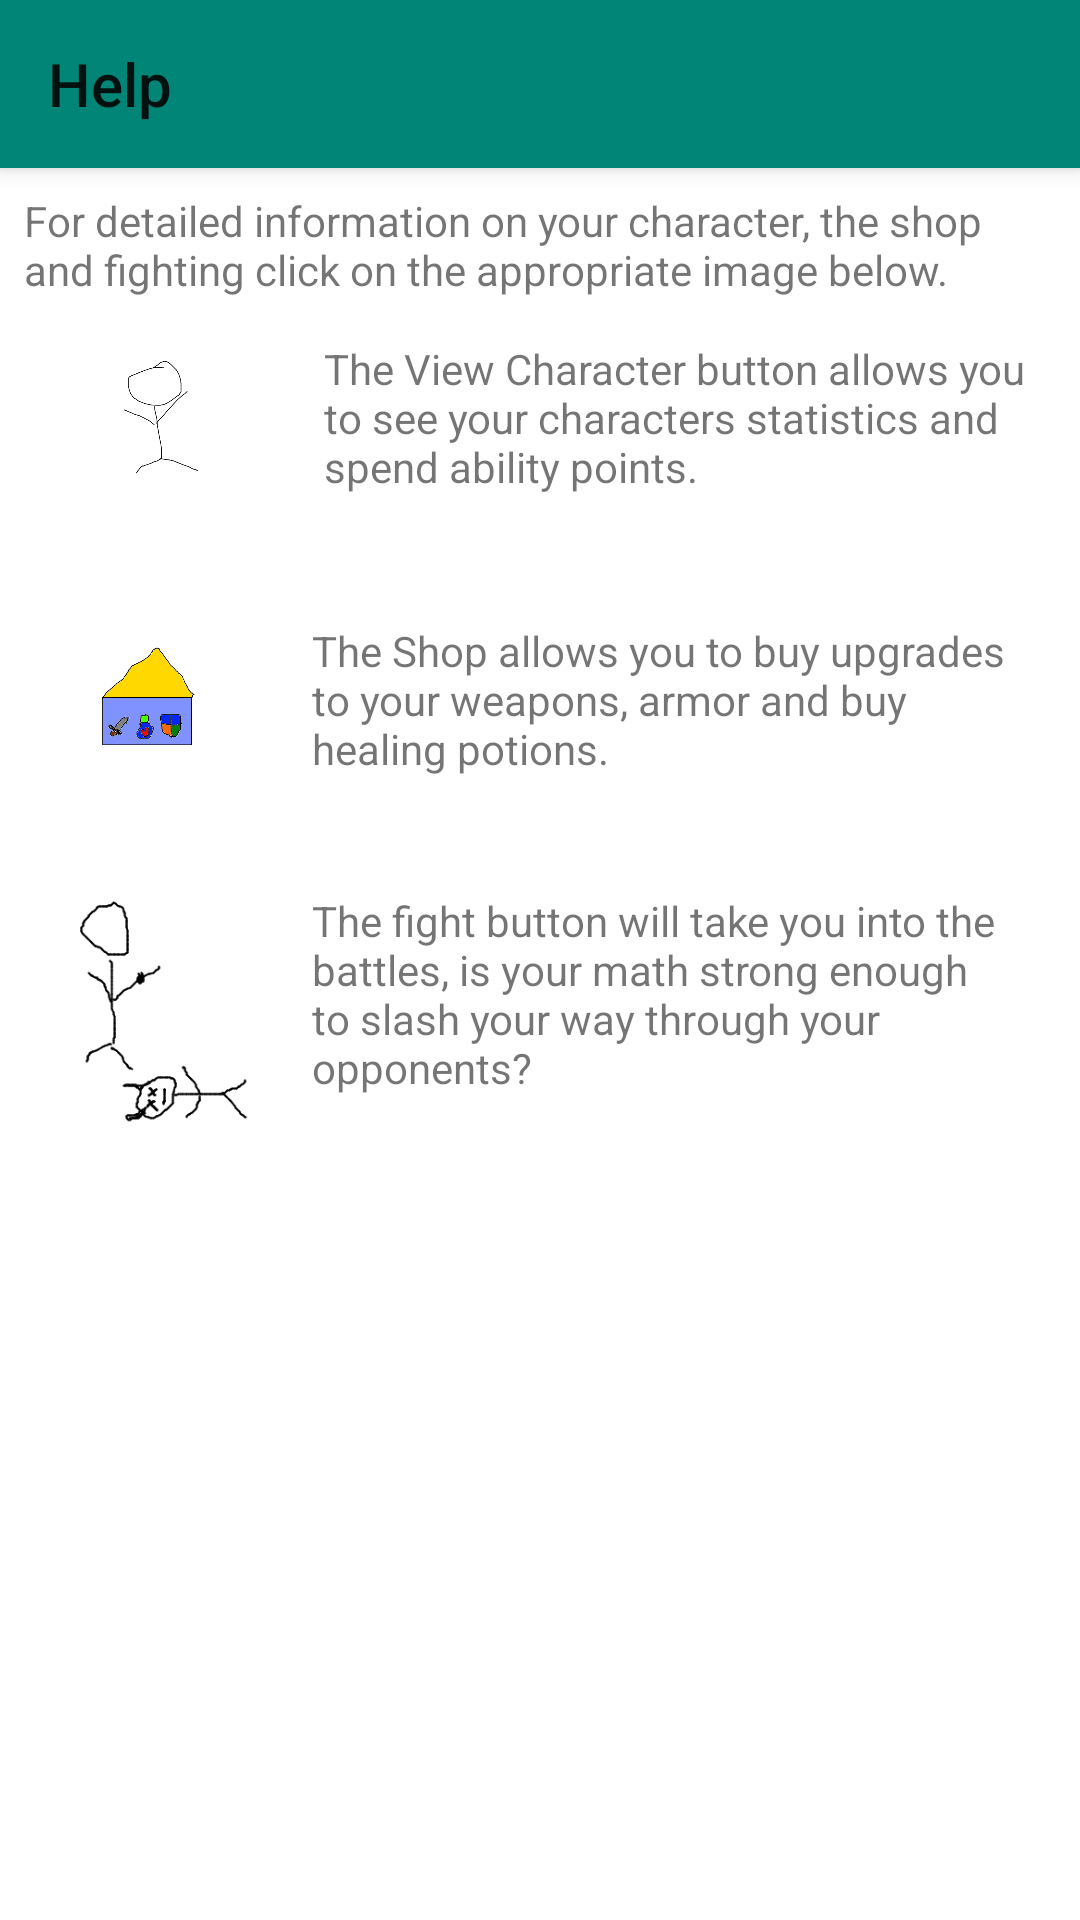

Where to tap for icons on this 1080 x 1920 app screen, as [x,y]:
result player won: [163,1011]
